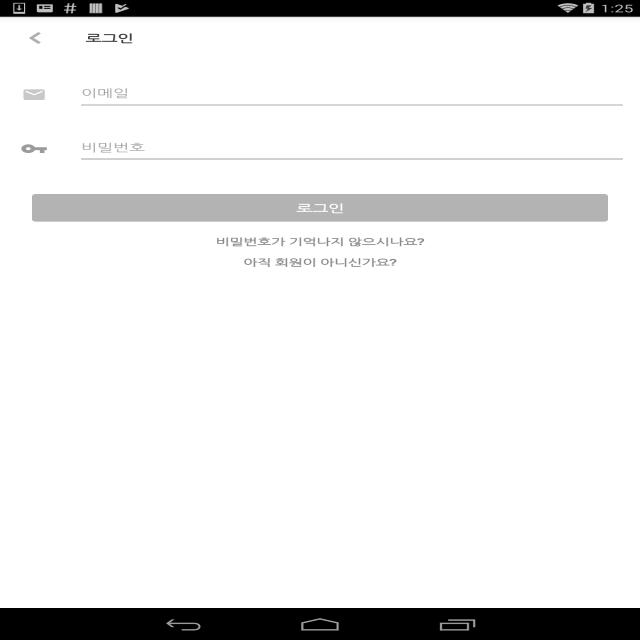Button: (32, 194, 608, 222)
EditText: (77, 133, 640, 165), (77, 79, 640, 110)
ImageButton: (7, 17, 66, 59)
ImageView: (17, 85, 51, 104), (17, 140, 51, 158)
TextView: (216, 235, 424, 248), (243, 256, 397, 268), (85, 31, 134, 45)
